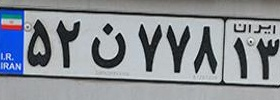character: (87, 21, 129, 71), (133, 18, 164, 76), (190, 21, 220, 76), (24, 15, 53, 70), (54, 16, 83, 70), (165, 20, 191, 76), (254, 37, 280, 83), (230, 35, 250, 83)
